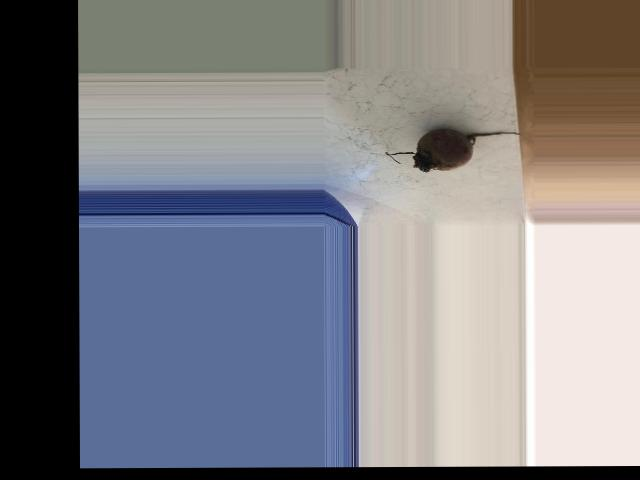beet: (385, 128, 524, 171)
